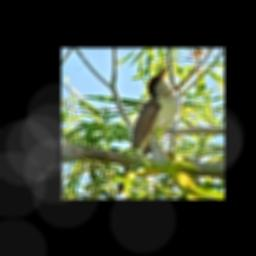Cuckoo: (115, 66, 180, 196)
